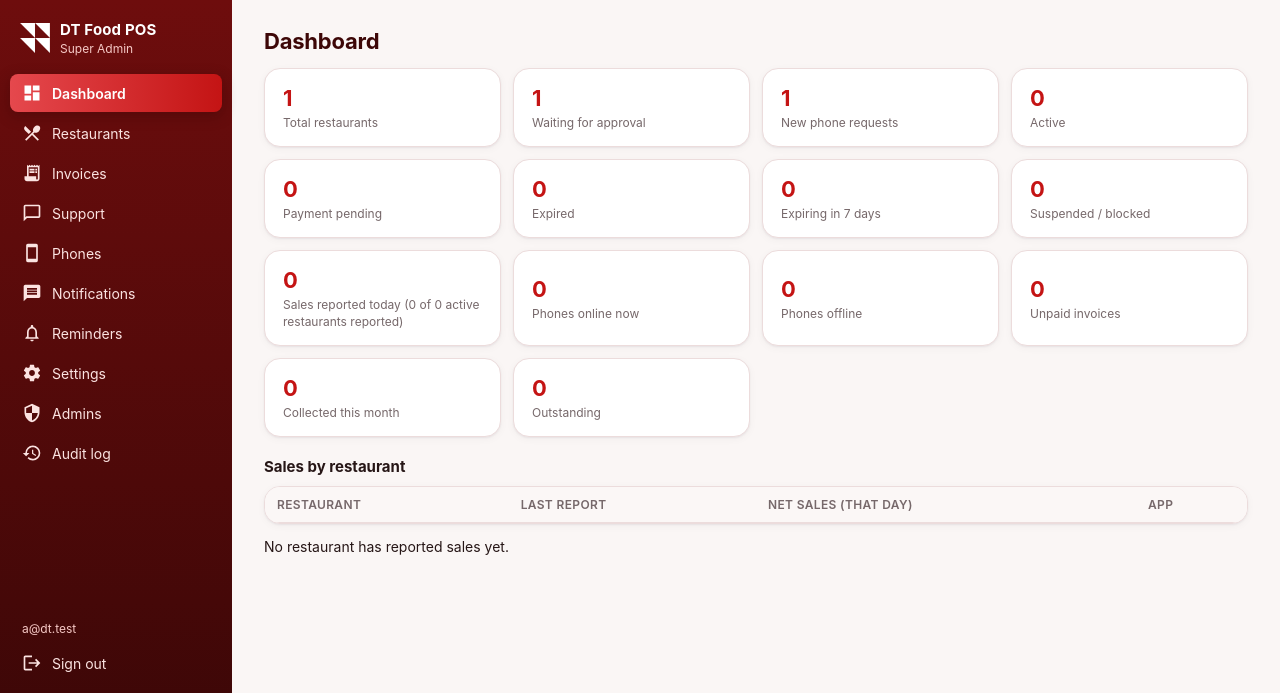
it: panel › resets the owner PIN from the restaurant page, digits only, 4 to 8 of them
The image size is (1280, 693).
Later steps or results of the test are not shown.
Click the button "Restaurants": (116, 133) [10, 114, 222, 152]
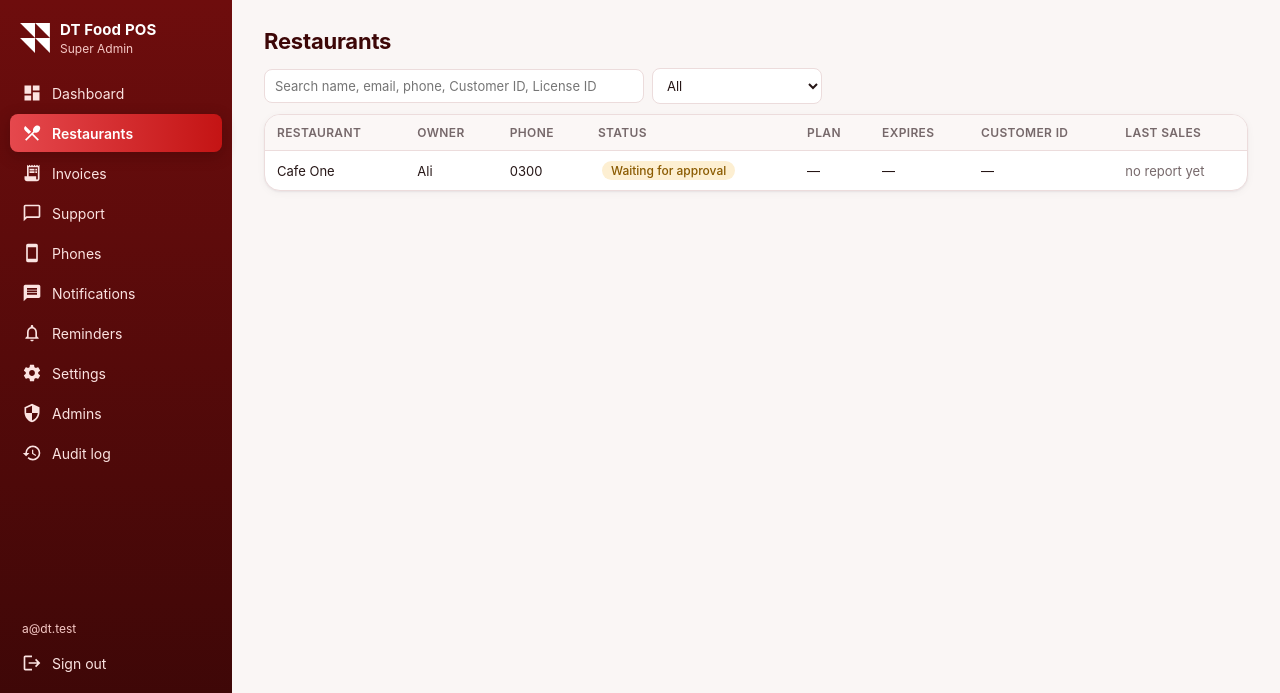
Click the text "Cafe One": (335, 170) [265, 151, 405, 190]
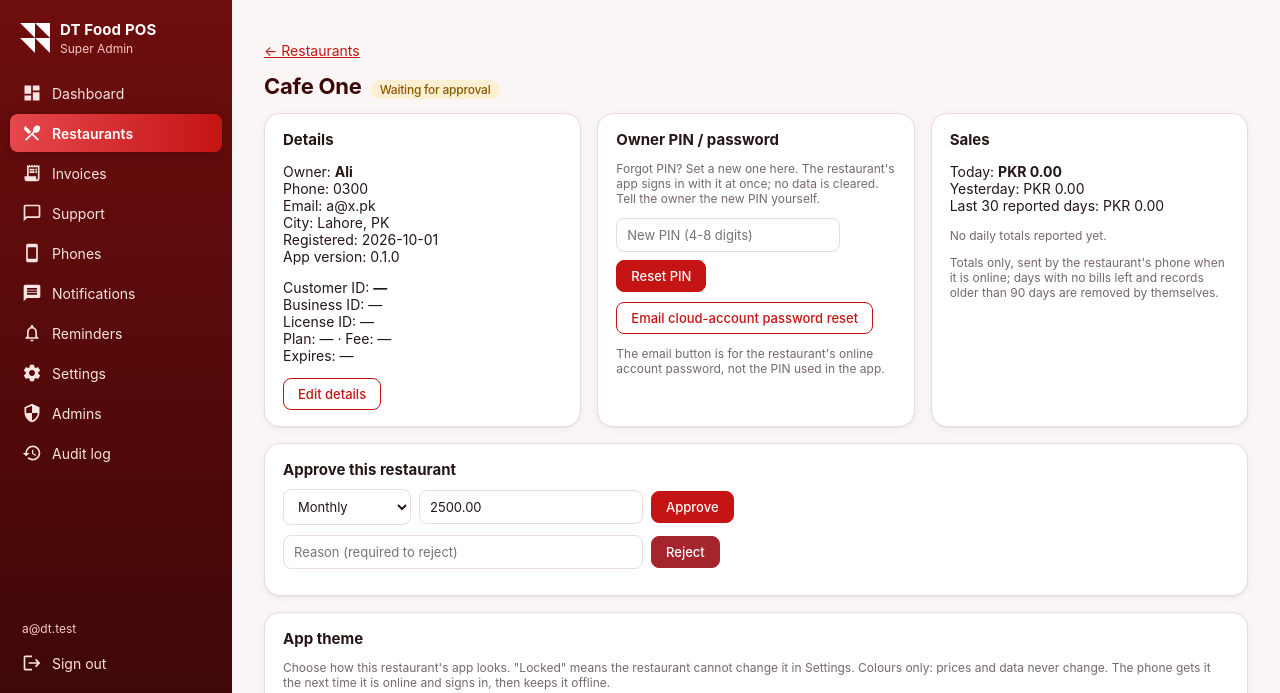
In the field named "New owner PIN": (728, 235) [616, 218, 840, 252], type "48a21"
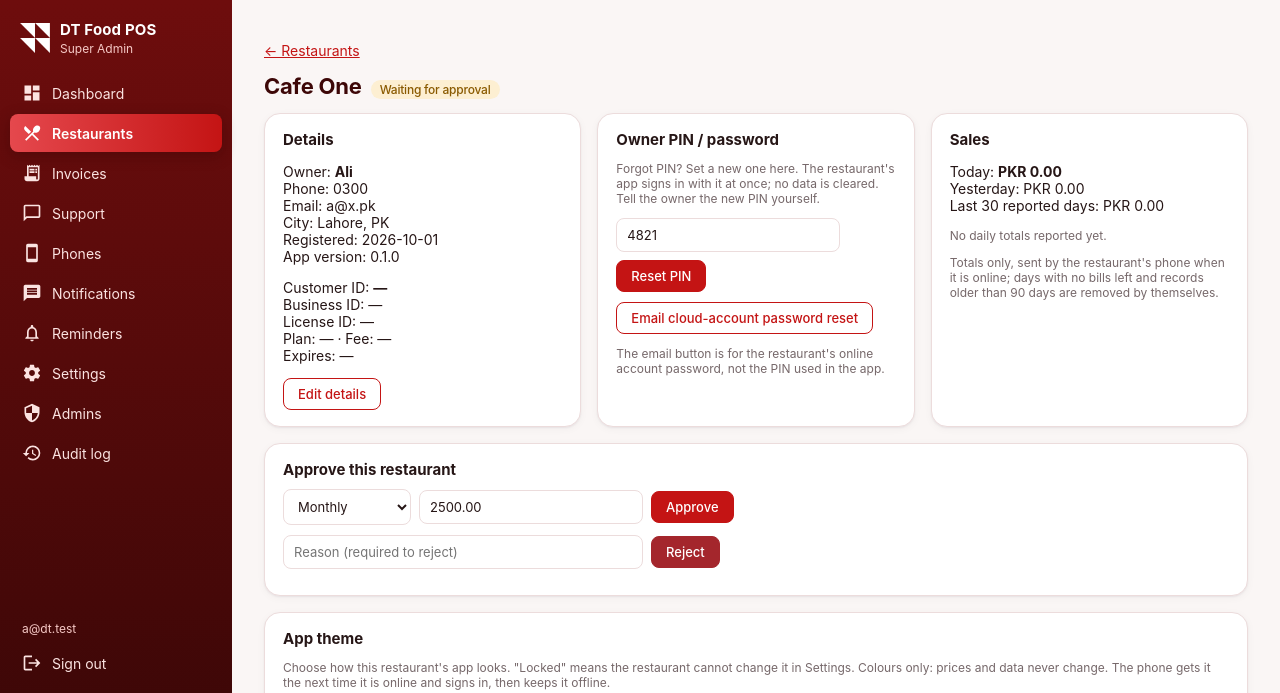
Expected: the field named "New owner PIN" holds "4821", [616, 218, 840, 252]
